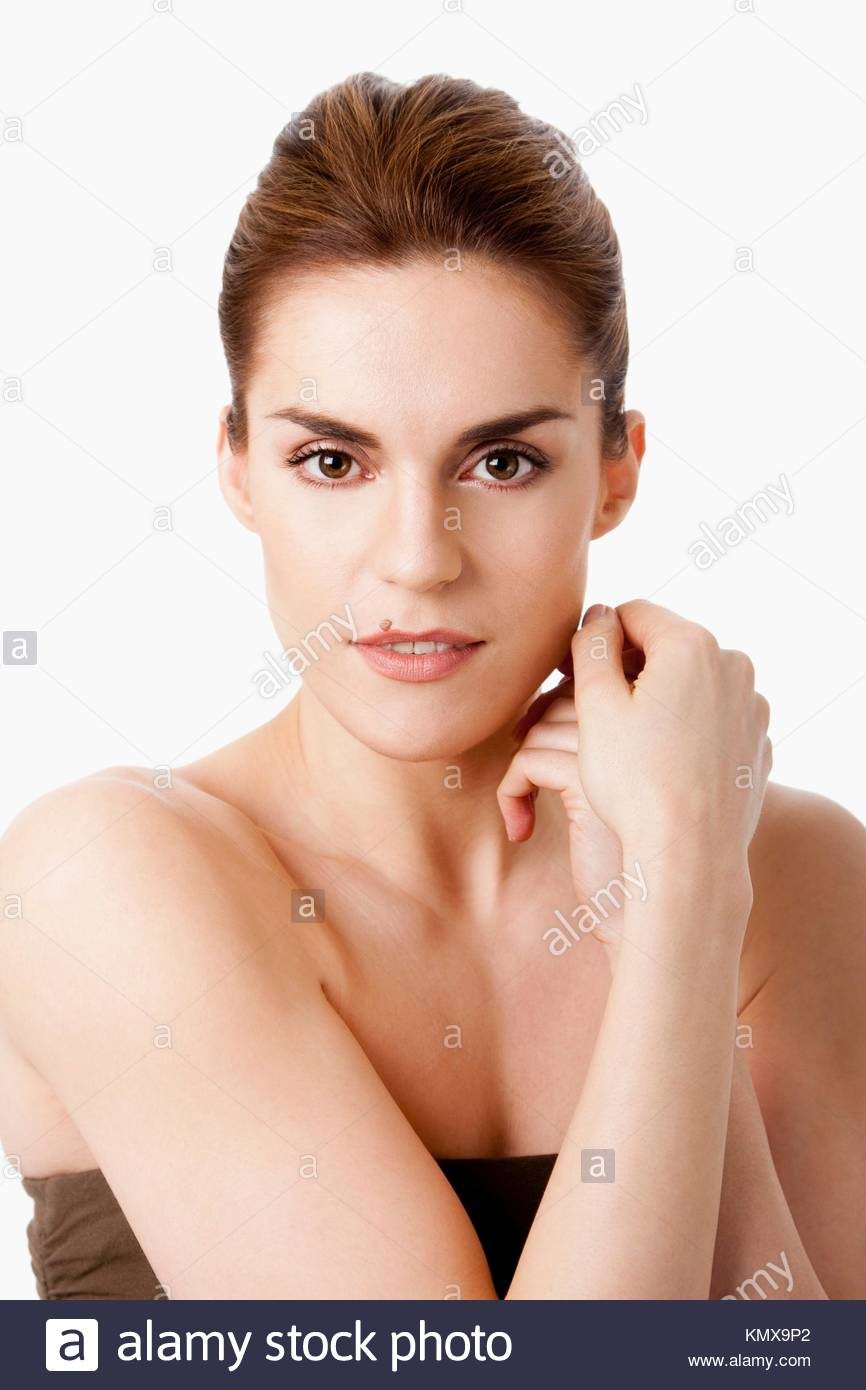mole: (374, 614, 398, 636)
